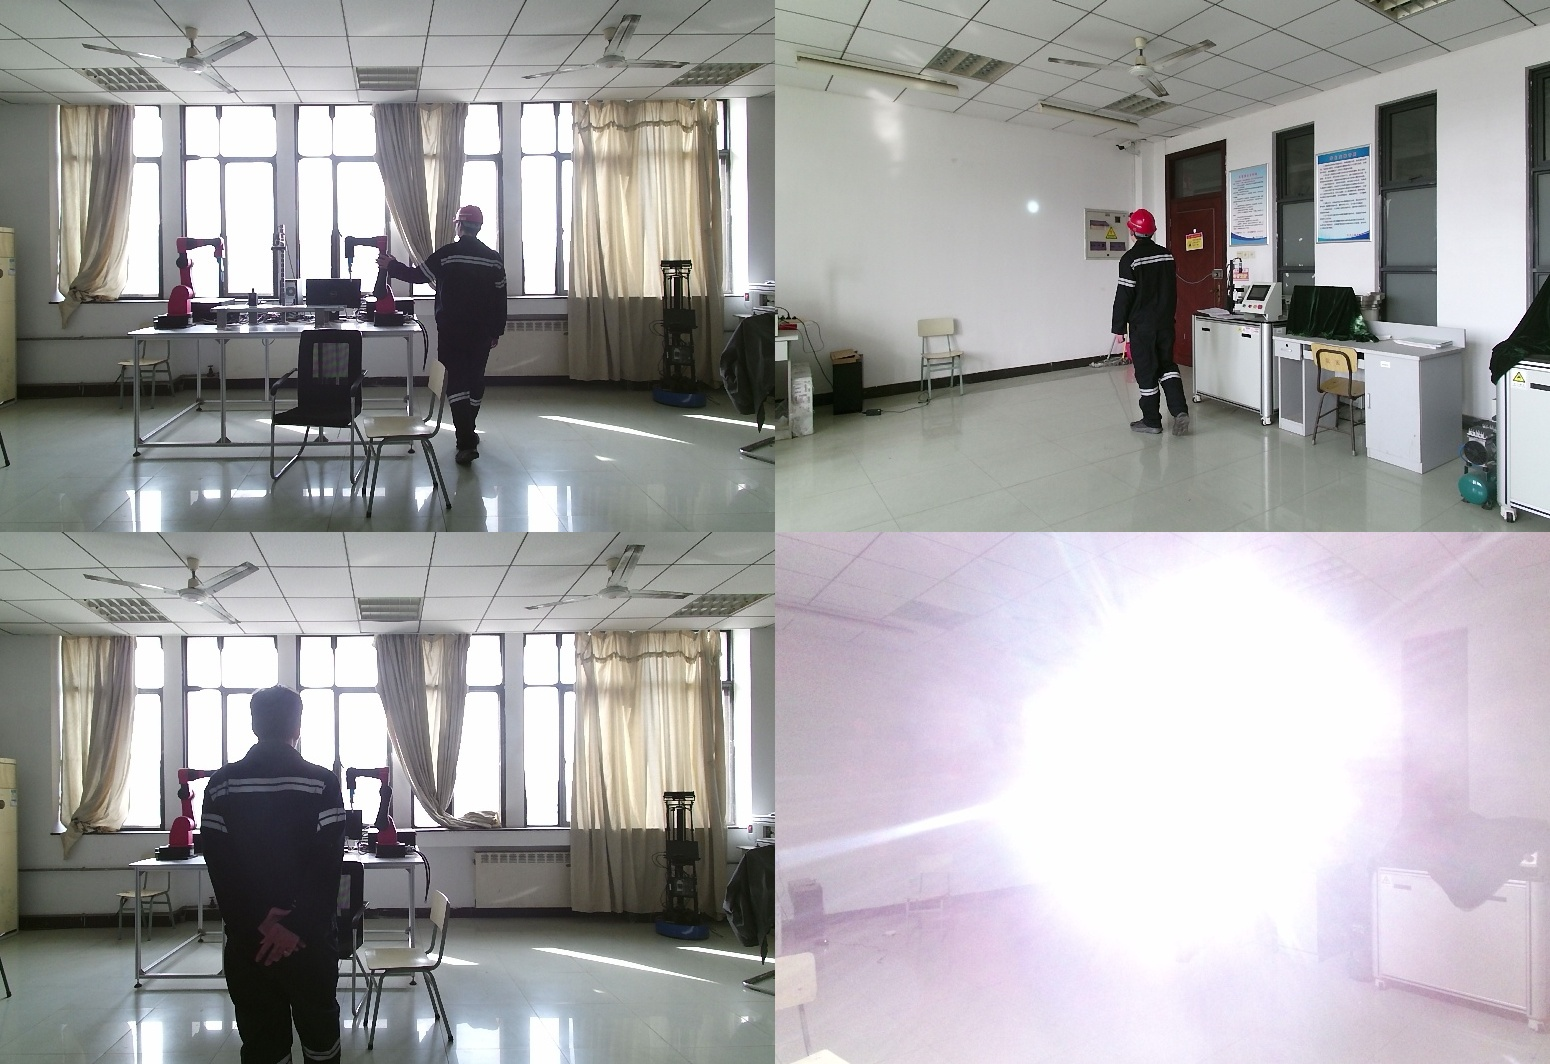person: (201, 686, 362, 1064), (379, 204, 520, 471), (1113, 210, 1197, 444), (1149, 747, 1226, 963)
